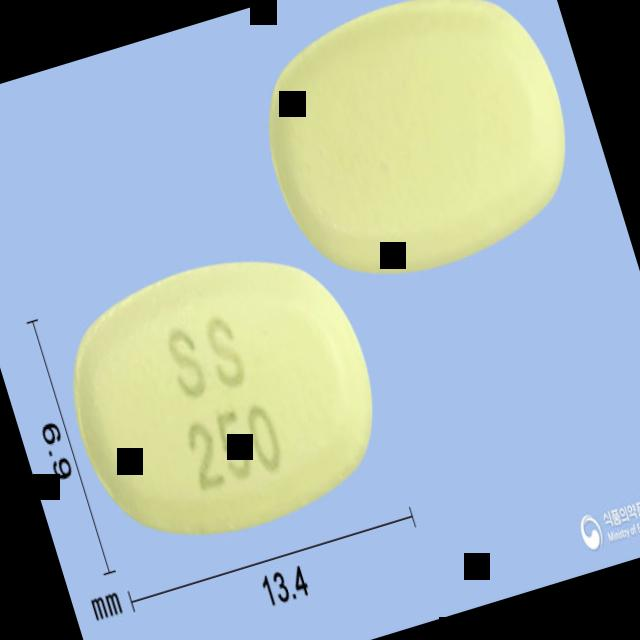Clarid: (44, 227, 404, 568), (236, 0, 597, 303)
